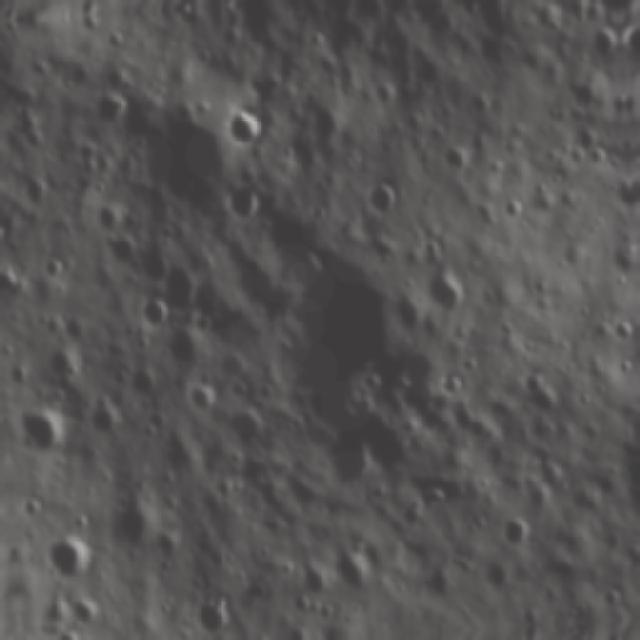crater: (277, 249, 425, 406), (386, 351, 442, 423), (322, 431, 378, 495), (105, 493, 157, 555), (364, 423, 418, 479), (42, 532, 98, 582), (327, 544, 378, 598), (160, 323, 212, 374), (520, 364, 562, 424), (20, 408, 66, 461), (158, 266, 200, 320), (568, 74, 612, 120), (304, 97, 345, 146), (188, 599, 237, 639), (358, 178, 404, 220), (90, 87, 132, 133), (426, 272, 468, 317), (226, 184, 266, 230), (86, 406, 129, 448), (433, 133, 472, 179), (227, 412, 270, 452), (229, 108, 266, 152), (62, 595, 105, 631), (535, 454, 571, 497), (588, 23, 624, 66), (297, 561, 332, 605), (124, 368, 162, 408), (133, 298, 176, 333), (104, 233, 145, 269), (185, 382, 222, 421), (43, 345, 77, 386), (503, 511, 535, 554), (137, 252, 177, 286), (92, 206, 126, 240), (59, 313, 92, 347), (498, 196, 530, 227), (156, 530, 184, 564), (583, 143, 612, 169), (104, 29, 128, 57), (43, 624, 84, 640)
